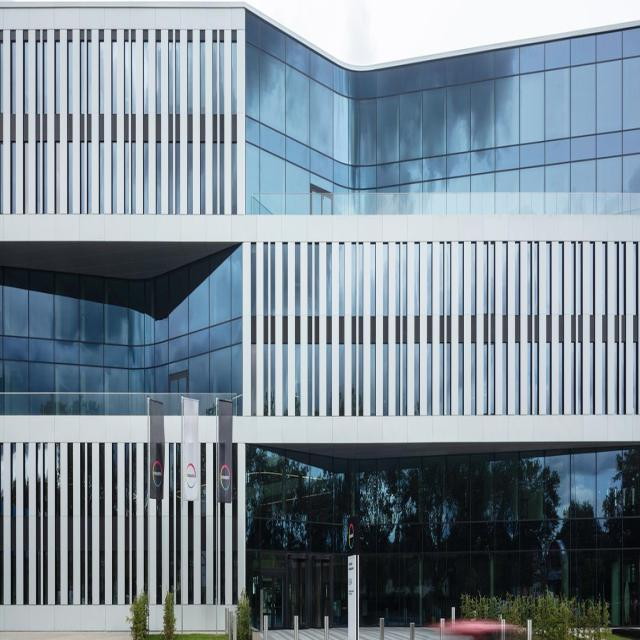door: (259, 557, 333, 631)
railing: (246, 194, 639, 214), (1, 390, 240, 416)
window: (245, 4, 640, 194), (246, 443, 640, 629), (0, 247, 243, 393), (251, 243, 257, 417), (282, 242, 288, 416), (338, 240, 344, 414), (370, 243, 376, 417), (471, 243, 477, 414), (68, 440, 74, 608), (157, 442, 163, 605), (25, 443, 31, 605), (111, 445, 117, 606), (123, 444, 129, 605), (314, 241, 319, 416), (447, 243, 452, 418), (415, 242, 420, 416), (546, 241, 551, 414), (189, 37, 194, 210), (0, 42, 5, 215), (13, 40, 18, 213), (36, 41, 41, 214), (45, 44, 50, 217), (383, 244, 388, 416), (502, 244, 507, 416), (570, 241, 575, 413), (590, 241, 595, 413), (614, 242, 619, 414), (622, 245, 627, 417), (168, 37, 173, 209), (212, 38, 217, 210), (221, 41, 226, 213), (81, 35, 86, 207), (88, 37, 93, 209), (101, 35, 106, 207), (124, 36, 129, 208), (133, 39, 138, 211), (56, 36, 61, 208), (144, 31, 149, 202), (232, 436, 237, 607), (189, 439, 194, 605), (87, 441, 92, 607), (176, 442, 181, 606), (213, 440, 218, 604), (80, 440, 85, 604), (201, 441, 206, 604), (221, 443, 226, 605), (100, 443, 105, 605), (12, 445, 17, 607), (264, 241, 268, 416), (296, 241, 300, 416), (308, 242, 312, 417), (428, 241, 432, 416), (440, 243, 444, 417), (516, 244, 520, 417), (578, 243, 582, 415), (176, 39, 180, 211), (201, 38, 205, 210), (528, 246, 532, 417), (535, 244, 539, 415), (559, 243, 563, 414), (603, 242, 607, 413), (634, 237, 638, 408), (157, 39, 161, 210), (232, 33, 236, 204), (69, 38, 73, 209), (113, 36, 117, 207), (25, 41, 29, 212), (169, 439, 173, 605), (57, 447, 61, 609), (37, 445, 41, 603), (44, 444, 48, 602), (132, 448, 136, 605), (144, 442, 148, 598), (484, 242, 487, 418), (271, 241, 274, 416), (359, 240, 362, 415), (353, 240, 356, 415), (328, 239, 331, 414), (396, 243, 399, 418), (404, 241, 407, 416), (492, 243, 495, 418), (459, 243, 462, 418)
